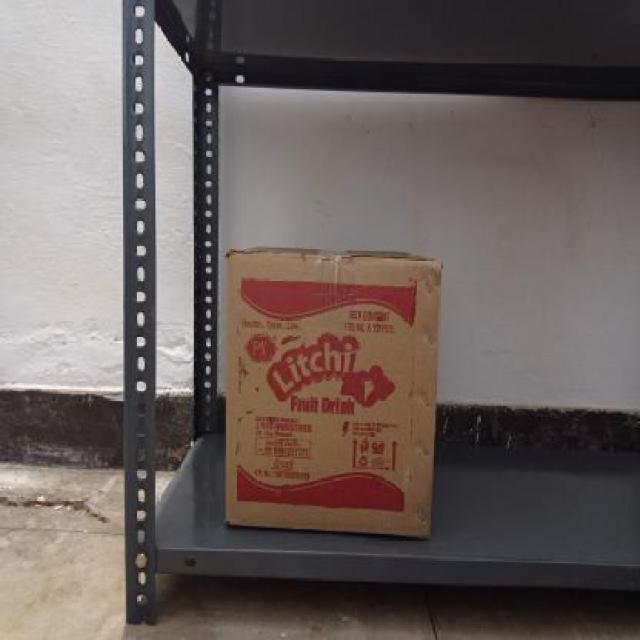box: (225, 247, 432, 538)
